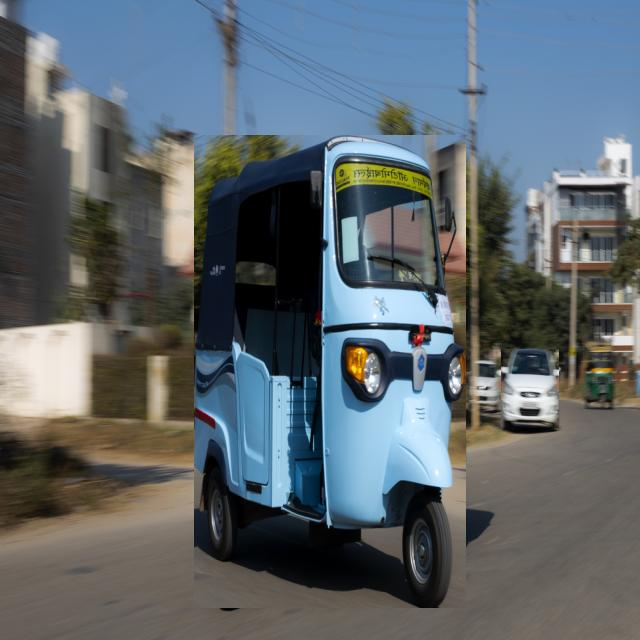autorickshaw: (194, 136, 466, 608)
car: (501, 349, 559, 430)
